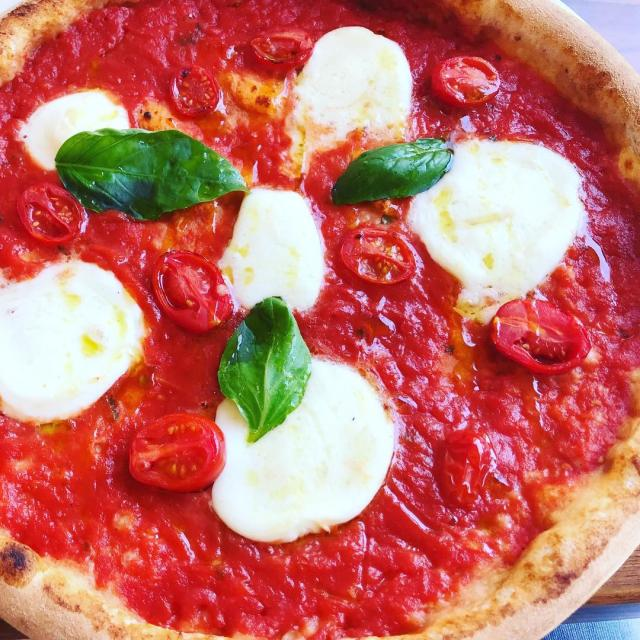basil: (220, 301, 312, 444), (61, 136, 237, 208), (335, 140, 451, 202)
pizza: (0, 0, 640, 640)
tomatoes: (488, 294, 591, 376), (127, 411, 233, 487), (149, 254, 234, 333), (341, 222, 417, 292), (16, 181, 90, 247), (433, 50, 502, 112), (169, 62, 220, 122), (243, 30, 310, 72)
